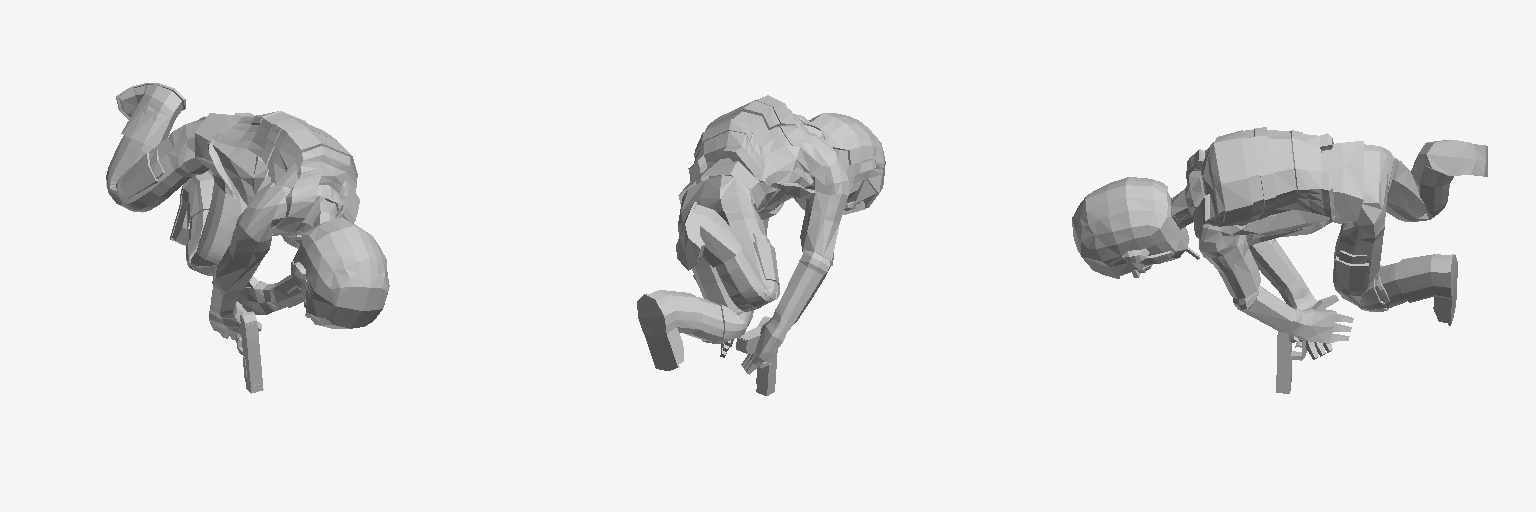
Rendered from frame_0079.obj.
3 views of the same model, side by side, from view 1: azimuth 30°, elevation 25°; view 2: azimuth 150°, elevation 25°; view 3: azimuth 270°, elevation 25° (orthographic).
Visible parts, largest first — view 1: Body, Gun; view 2: Body, Gun; view 3: Body, Gun.
Part boxes in pixels (bbox=[...]): Body: bbox=[106, 83, 389, 340]; Gun: bbox=[236, 301, 263, 393]; Body: bbox=[637, 95, 885, 374]; Gun: bbox=[736, 316, 777, 395]; Body: bbox=[1072, 127, 1487, 359]; Gun: bbox=[1276, 331, 1332, 393].
Bounding box in the file's own units: 1.41 × 2.42 × 3.37.